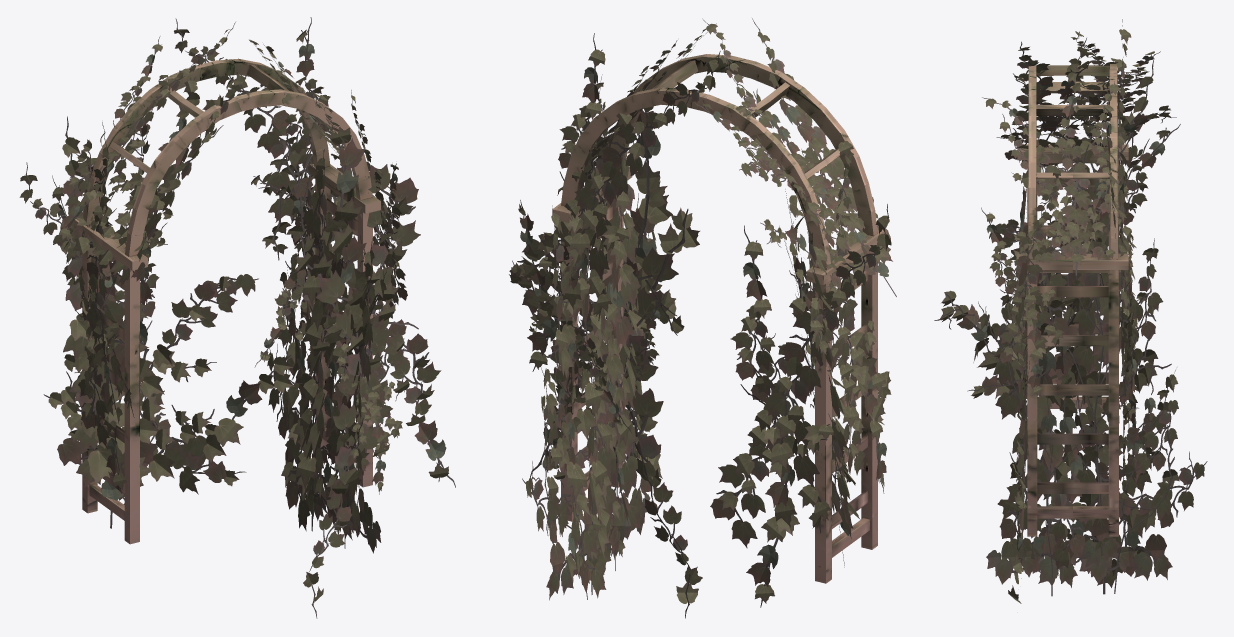
File: P_Ivy04.obj
The picture shows the model from 3 angles, left to right: view 1: azimuth 30°, elevation 25°; view 2: azimuth 150°, elevation 25°; view 3: azimuth 270°, elevation 25°; orthographic projection. The views are drawn at different scales.
Size of the model in its own units: 1.27 by 1.82 by 0.8423.
13 materials, 13 textured.
